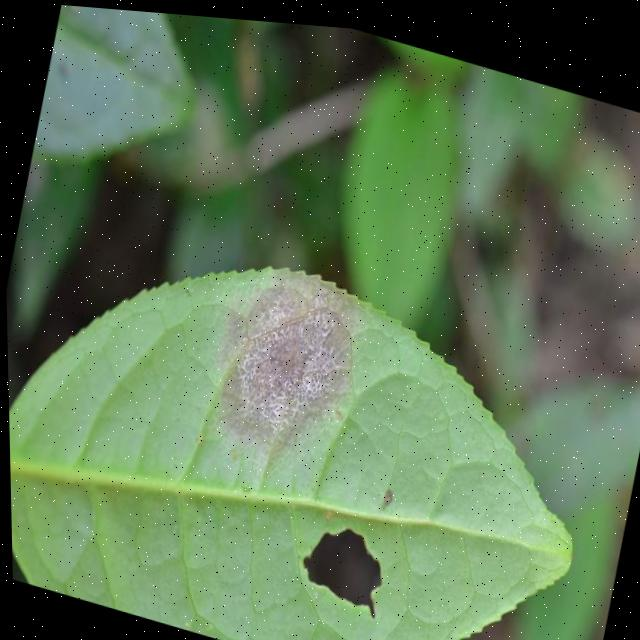Tea exobasidium blight: (209, 250, 377, 457)
